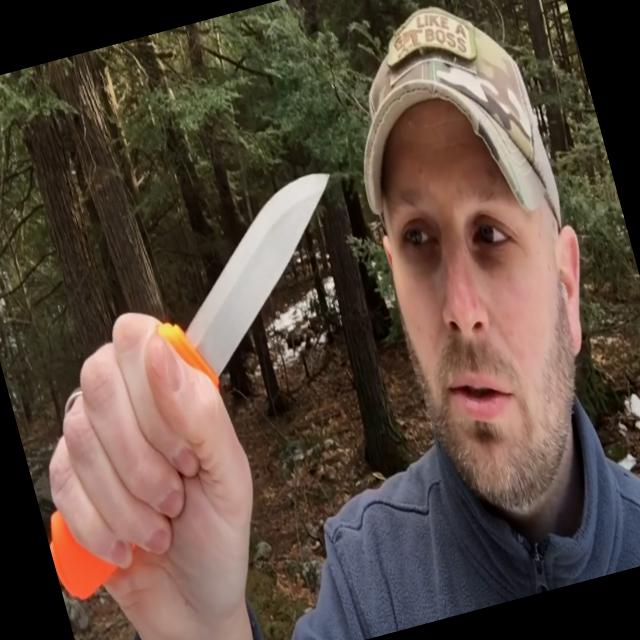knife: (36, 155, 413, 538)
